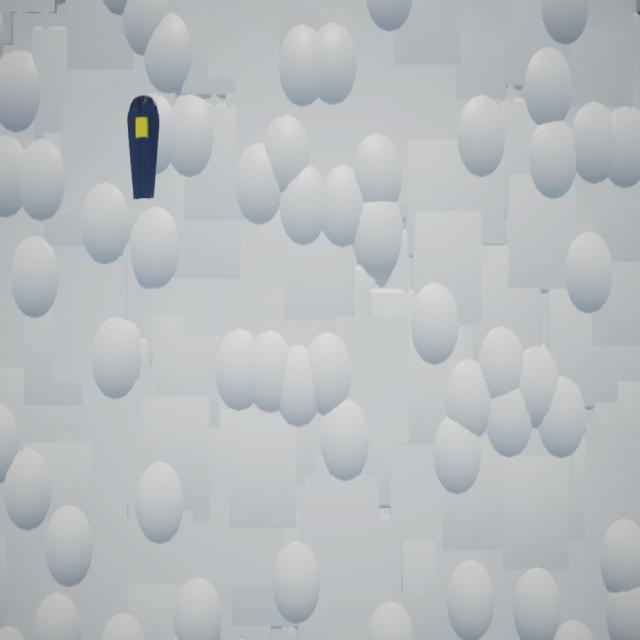handle_folk: (128, 97, 161, 200)
